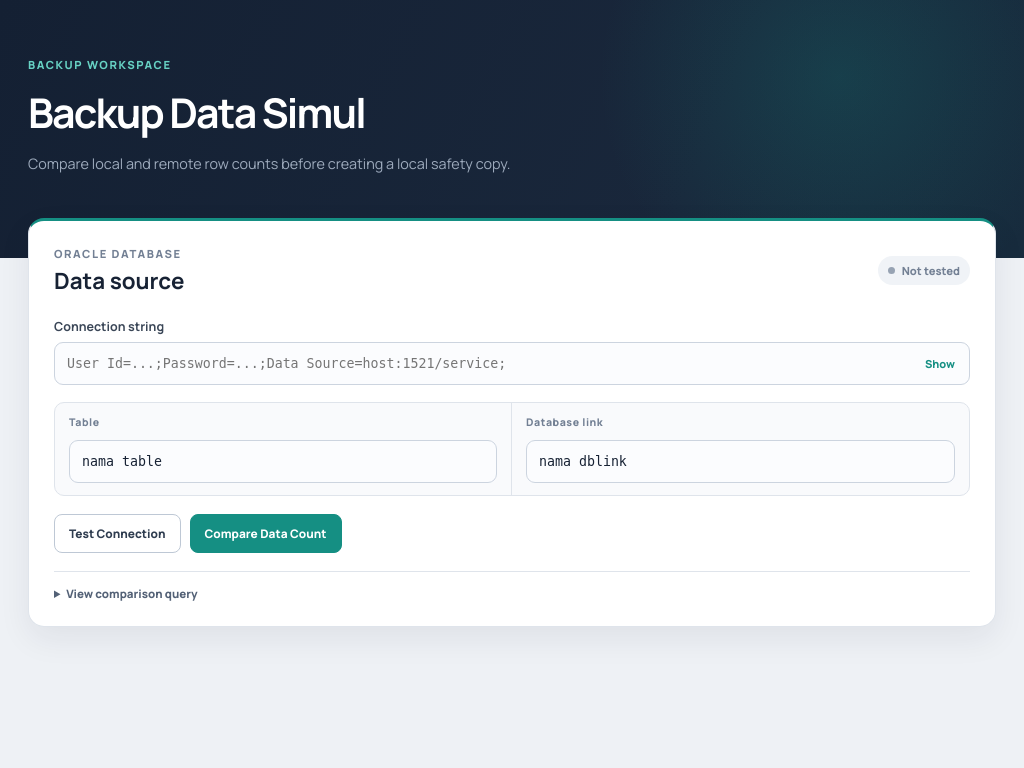
it: BackupDataSimulPage › requires a connection string before sending a request
The width and height of the screenshot is (1024, 768).
Click the button "Compare Data Count".
click(266, 533)  # box x1=190 y1=514 x2=342 y2=553
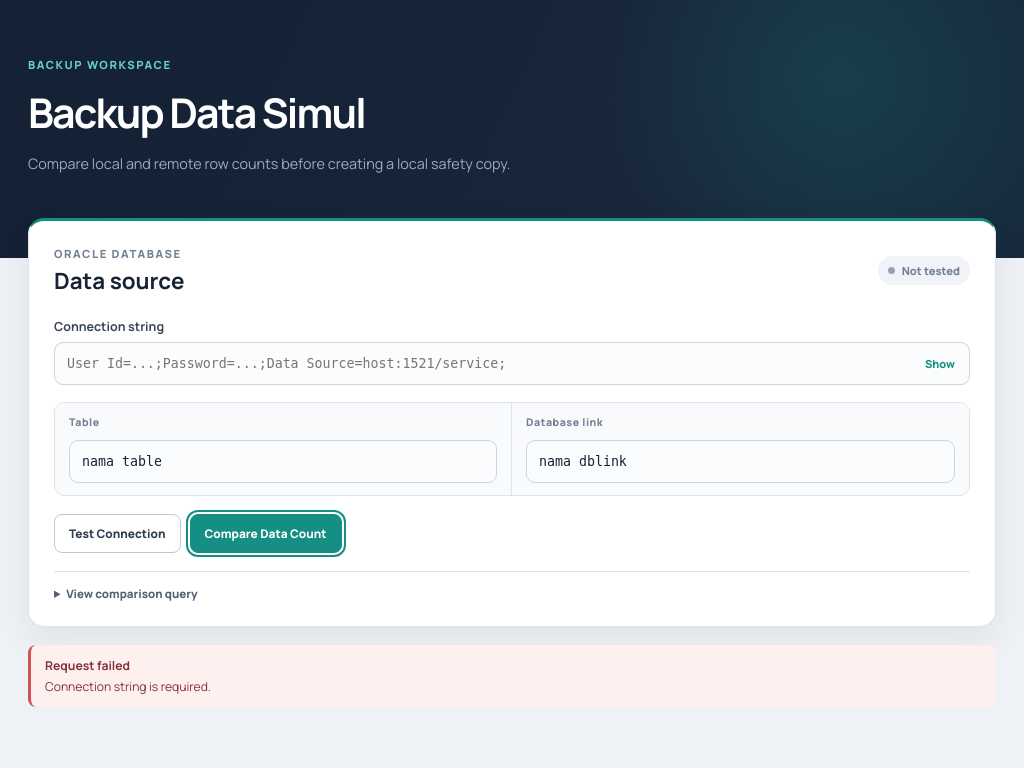
Check: the message shows "Connection string is required.", box x1=45 y1=678 x2=211 y2=695
